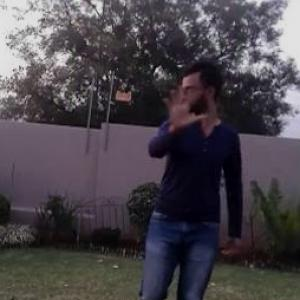follow_hand: (160, 79, 210, 131)
